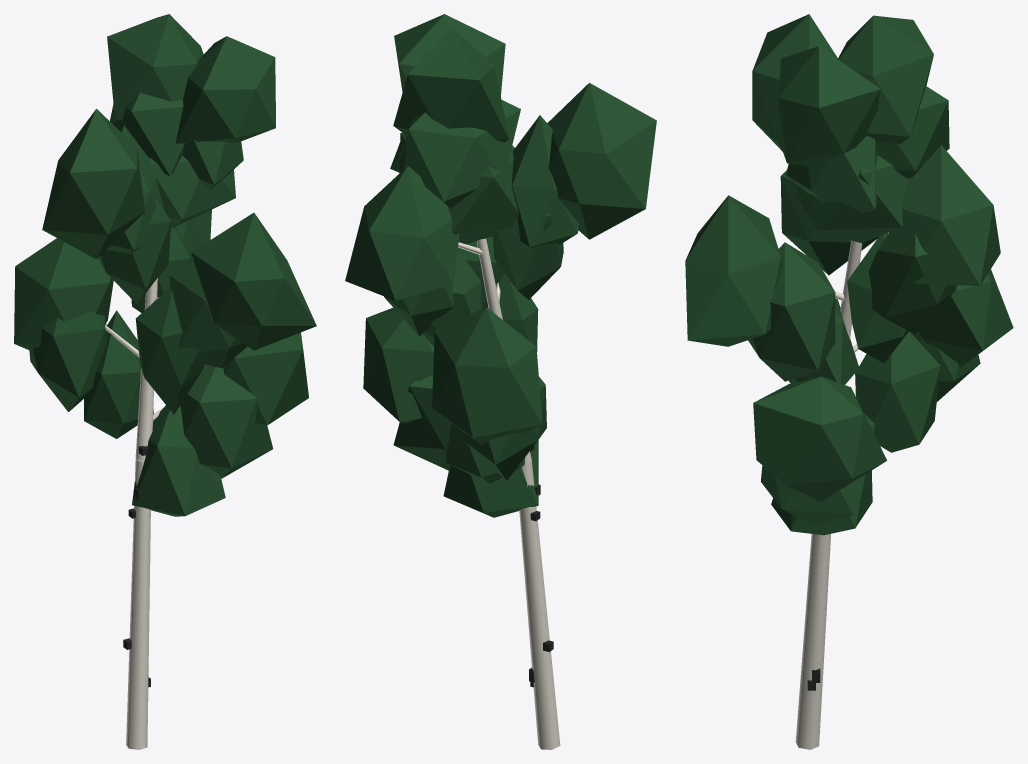
The model's file is tree-birch-2.glb.
3 renders of one model, left to right at view 1: azimuth 30°, elevation 25°; view 2: azimuth 150°, elevation 25°; view 3: azimuth 270°, elevation 25°, orthographic. The views are drawn at different scales.
Visible parts, largest first — view 1: 02_paint0, 00_#e0dcd0; view 2: 02_paint0, 00_#e0dcd0; view 3: 02_paint0, 00_#e0dcd0.
Boxes of the visible parts, x1,y1,x2,y2 form: 02_paint0: (14,14,316,516); 00_#e0dcd0: (105,278,163,749); 02_paint0: (345,14,656,517); 00_#e0dcd0: (458,238,560,749); 02_paint0: (685,14,1013,535); 00_#e0dcd0: (795,240,862,749).
Bounding box in the file's own units: 5.48 × 13.82 × 5.39.
